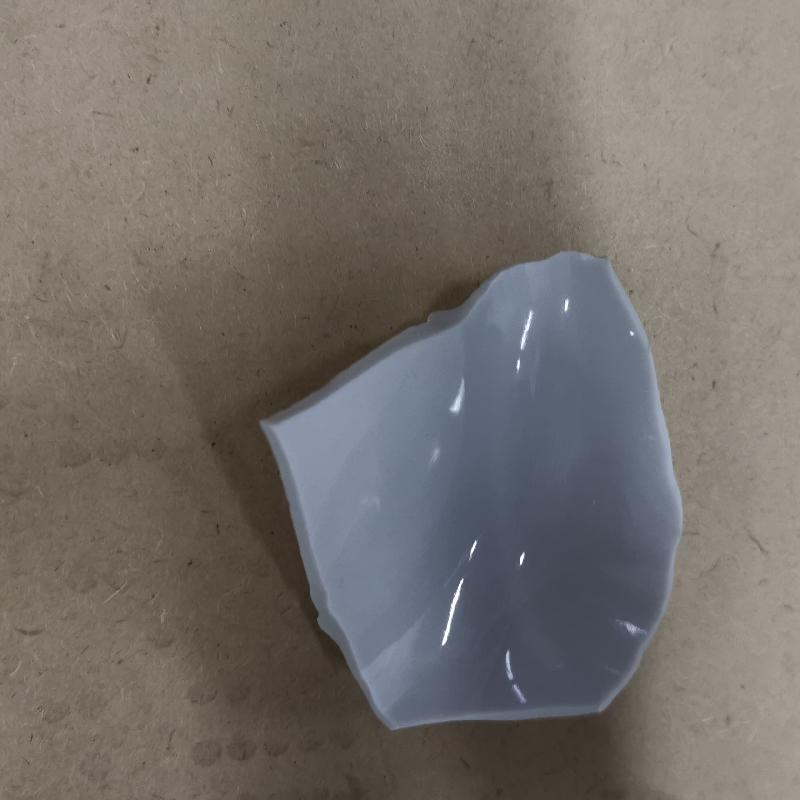ceram: (257, 244, 686, 736)
